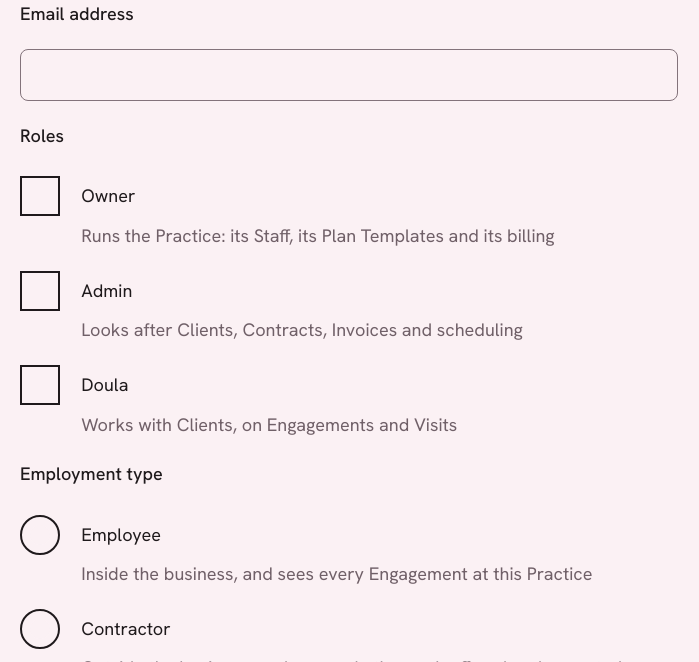
Scenario: invite a Staff member screen › refuses to send an invitation carrying no roles
Type "lena@example.com" into the field labelled "Email address" at (349, 75), box [20,49,678,100]
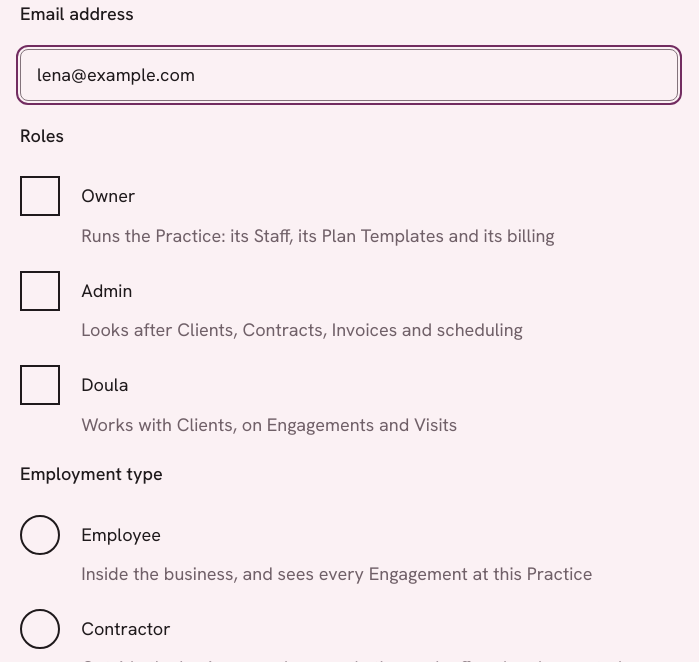
Click the radio button labelled "Employee" at (40, 534), box [20,514,60,554]
(page scrolled)
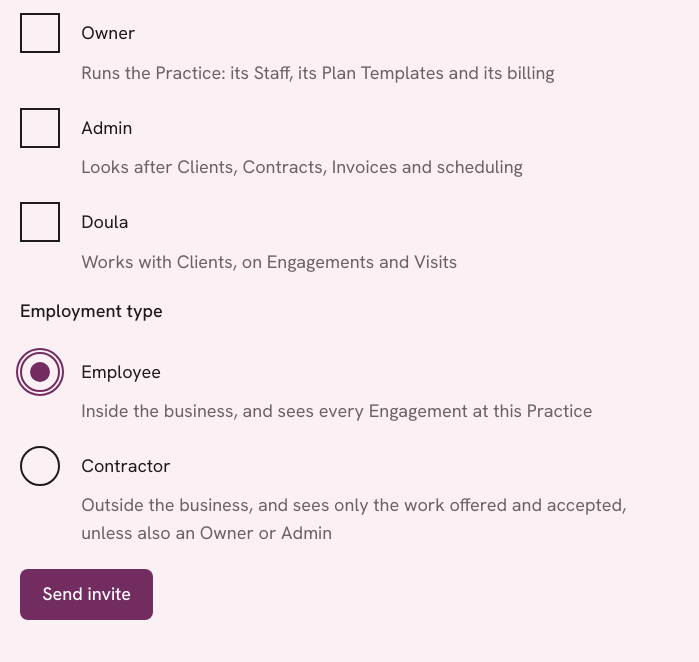
Click the button "Send invite" at (87, 594), box [20,569,153,620]
(page scrolled)
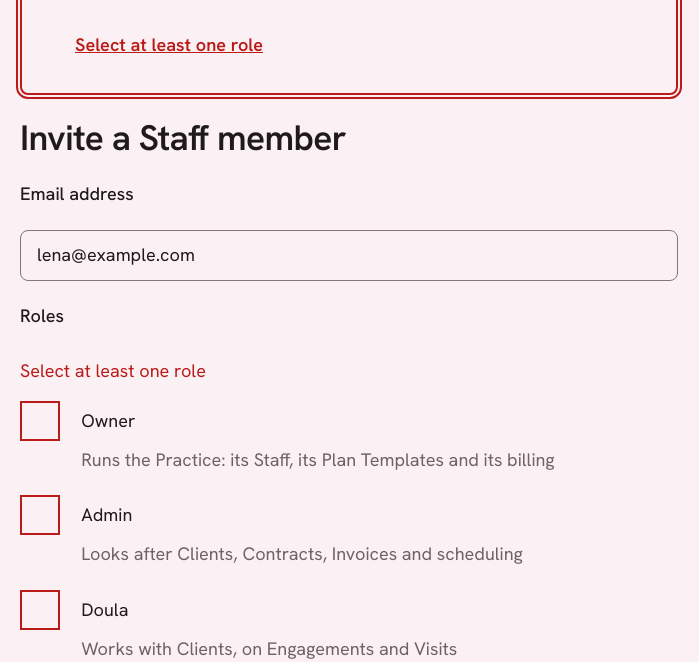
Expected: the text "Select at least one role" is shown, [20,359,206,382]
